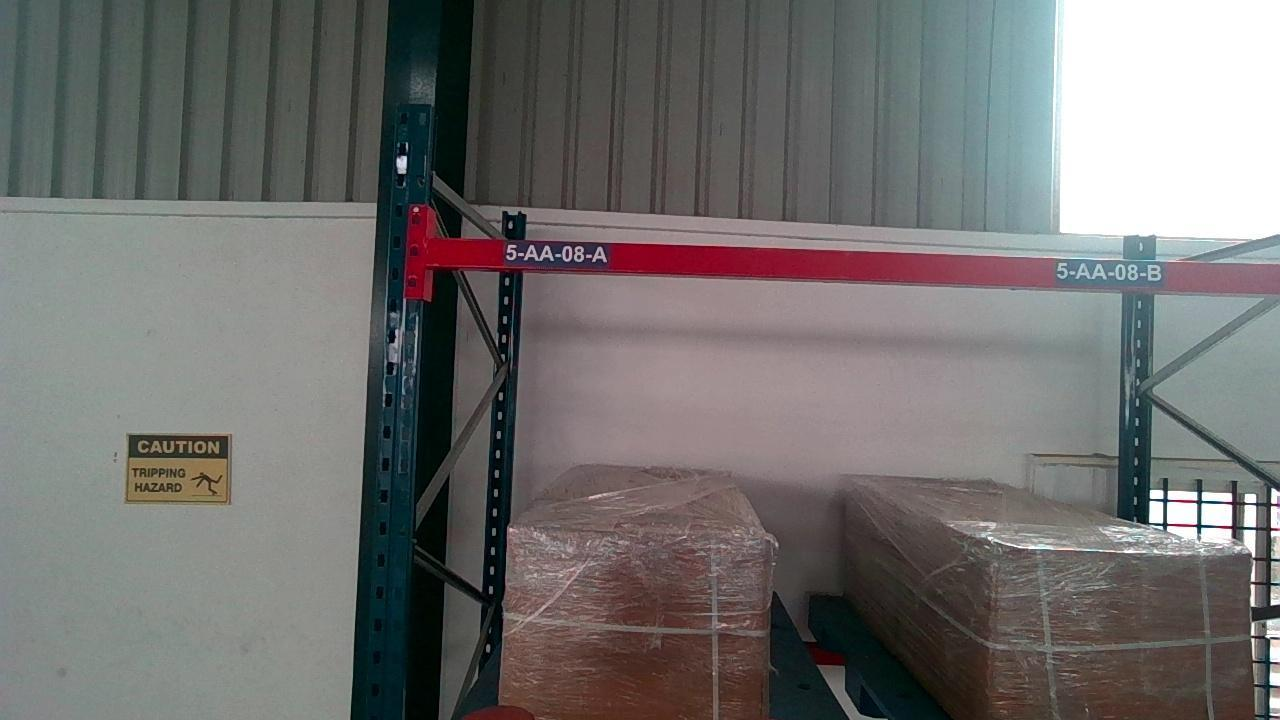h_rack: (426, 237, 1274, 292)
